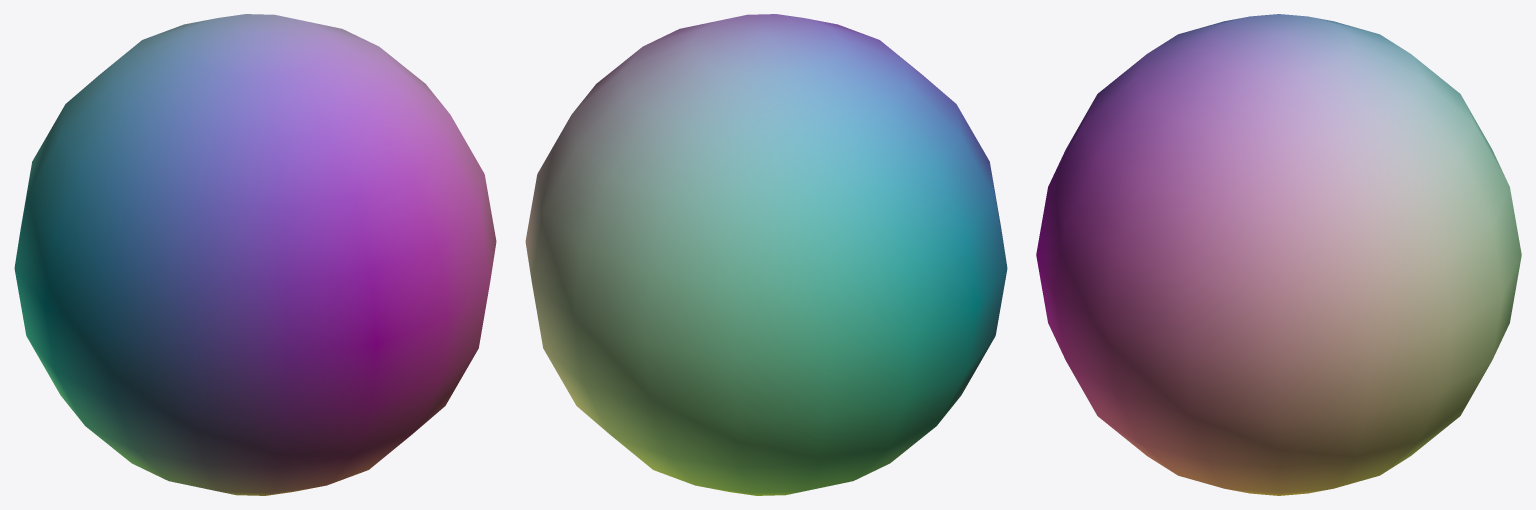
The model's file is env_deco_marble.glb.
3 views of the same model, side by side, from view 1: azimuth 30°, elevation 25°; view 2: azimuth 150°, elevation 25°; view 3: azimuth 270°, elevation 25° (orthographic).
Visible parts, largest first — view 1: env_deco_marble_mesh; view 2: env_deco_marble_mesh; view 3: env_deco_marble_mesh.
Part boxes in pixels (x1,y1,x2,y2): env_deco_marble_mesh: [14, 14, 496, 495]; env_deco_marble_mesh: [525, 14, 1007, 495]; env_deco_marble_mesh: [1036, 14, 1521, 495].
Bounding box in the file's own units: 0.2 × 0.2 × 0.2.
